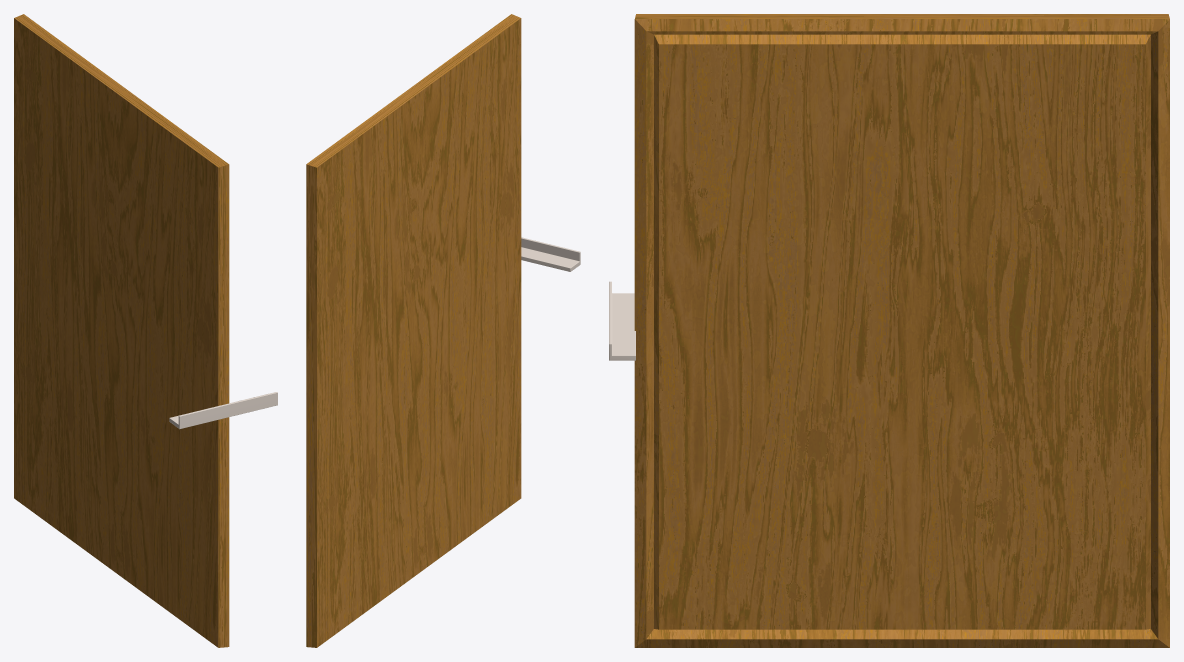
File: Cabinet_eb7be256.obj
3 views of the same model, side by side, from view 1: azimuth 30°, elevation 25°; view 2: azimuth 150°, elevation 25°; view 3: azimuth 270°, elevation 25° (orthographic). The views are drawn at different scales.
Parts seen in each view (by area): view 1: Mesh_bfb998fd, handle_3_178mm_01_9d84423b; view 2: Mesh_bfb998fd, handle_3_178mm_01_9d84423b; view 3: Mesh_bfb998fd, handle_3_178mm_01_9d84423b.
Part boxes in pixels (x1,y1,x2,y2): Mesh_bfb998fd: (14,14,229,647); handle_3_178mm_01_9d84423b: (169,392,277,429); Mesh_bfb998fd: (306,14,521,647); handle_3_178mm_01_9d84423b: (521,237,580,271); Mesh_bfb998fd: (634,14,1169,647); handle_3_178mm_01_9d84423b: (609,281,635,360).
Size of the model in its own units: 0.178 by 0.8341 by 0.6742.
